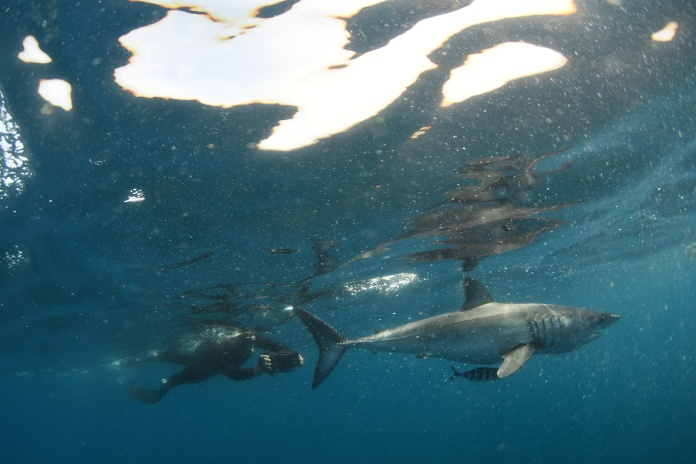Mako: (283, 272, 630, 398)
